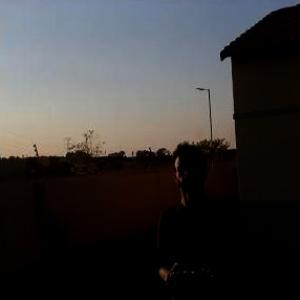follow: (150, 138, 255, 299)
